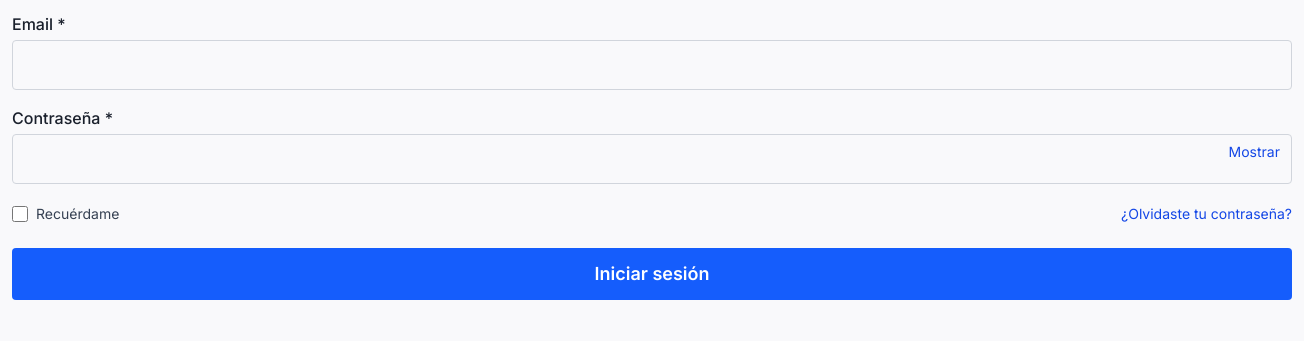
Authentication Forms Integration › SignInForm › shows validation error when invalid email is blurred
// Focus and enter invalid email
Type "invalid-email" into the field labelled "Email *". click: (652, 65)
box: [12,40,1292,90]
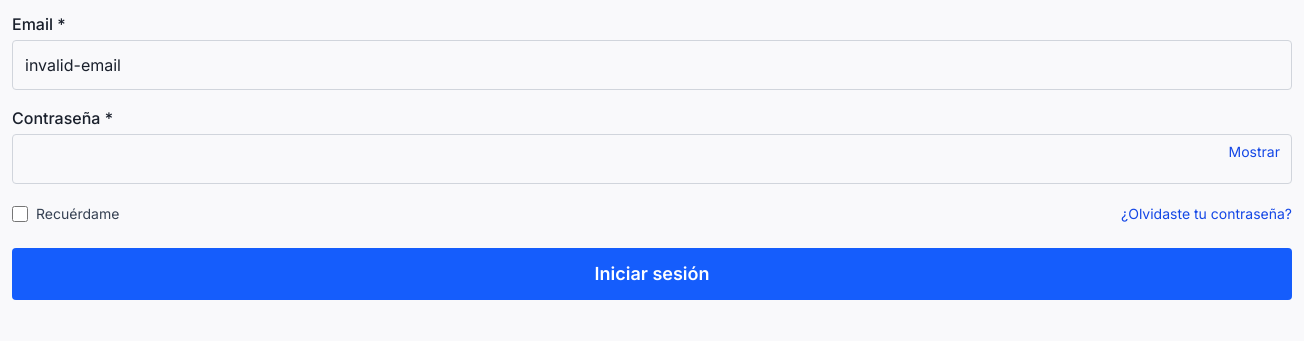
// Blur to trigger validation
Leave the field labelled "Email *", box [12,40,1292,90]
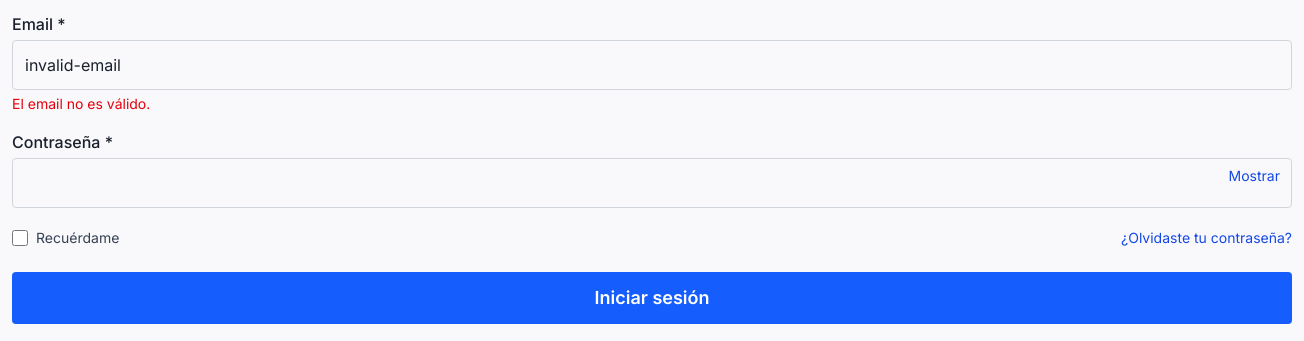
Expected: the text "El email no es válido." is shown, [12,95,150,112]
